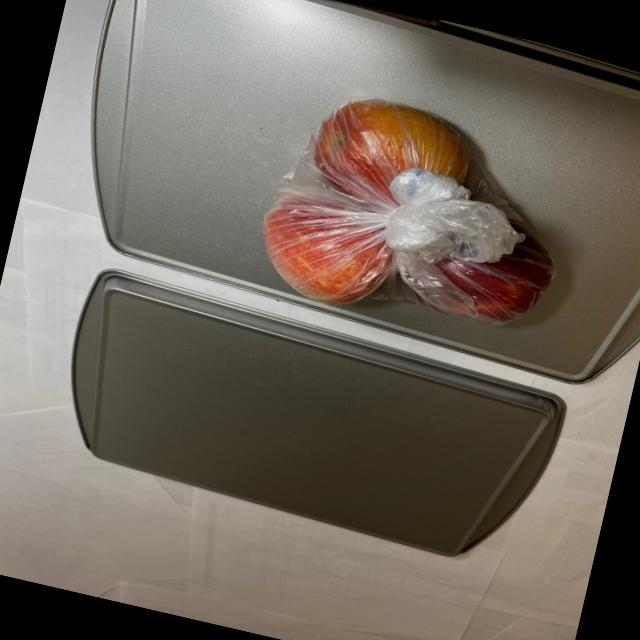apple: (240, 76, 586, 352)
